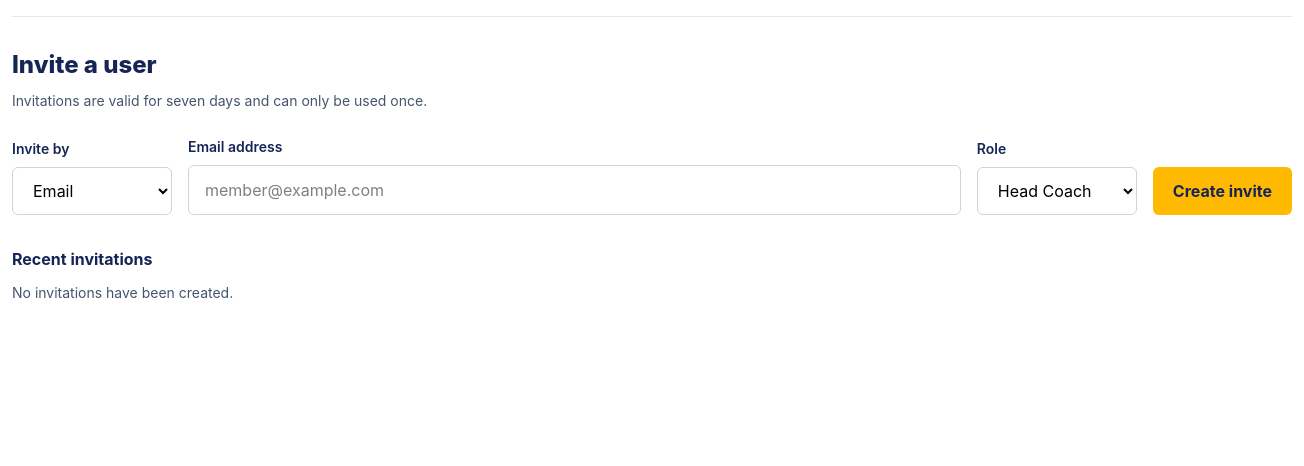
Test: AdminInvitations › reports that an email invitation was sent and hides the manual link
This screenshot has width=1304, height=466.
Type "newmember@example.com" into the field labelled "Email address". click: point(574, 190)
box: [188, 165, 961, 215]
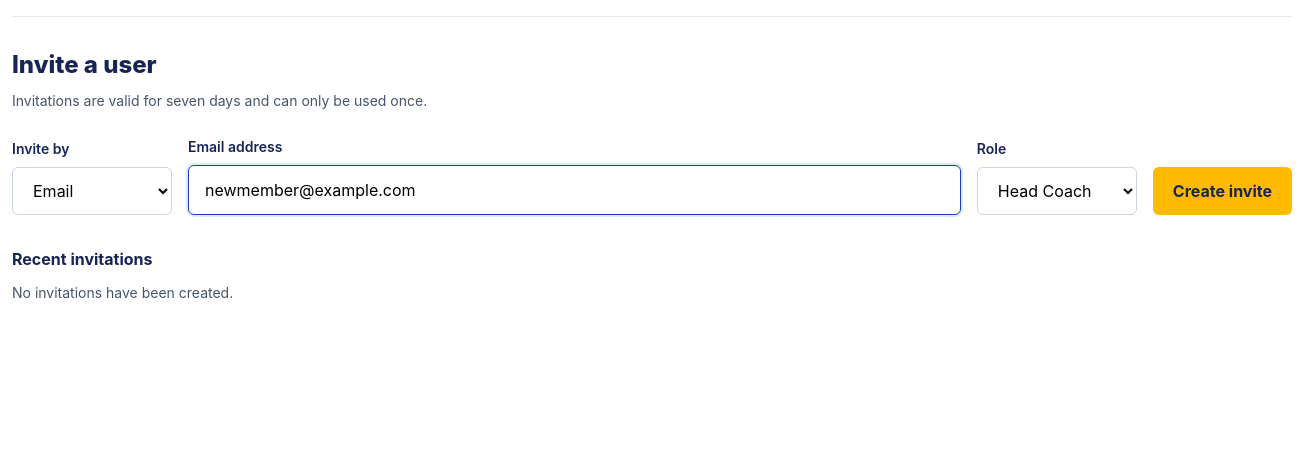
Click the button "Create invite". click: point(1222, 191)
box: [1153, 167, 1292, 215]
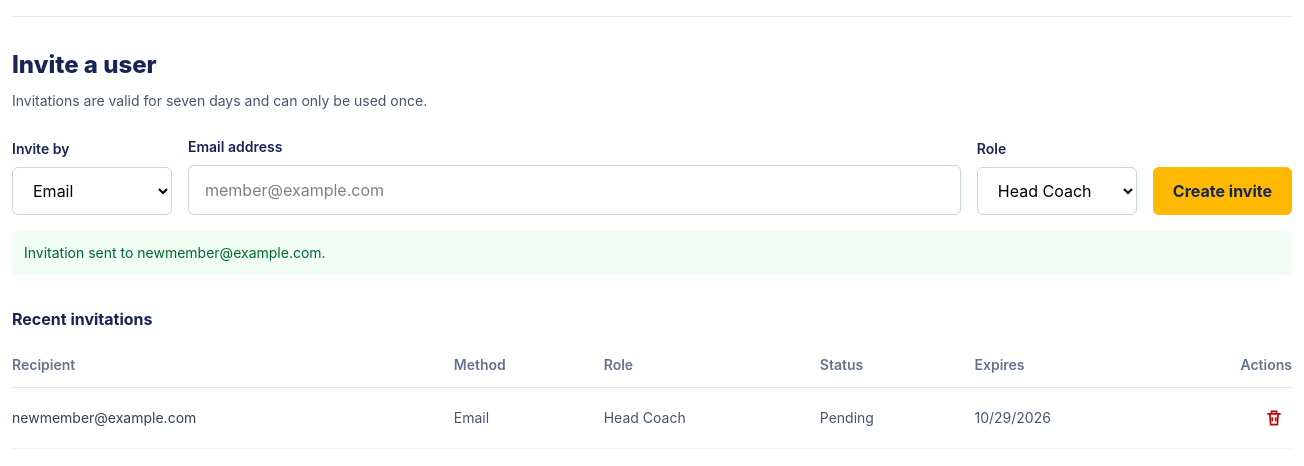
Now the message reads "Invitation sent to newmember@example.com.", box [24, 244, 326, 261]
